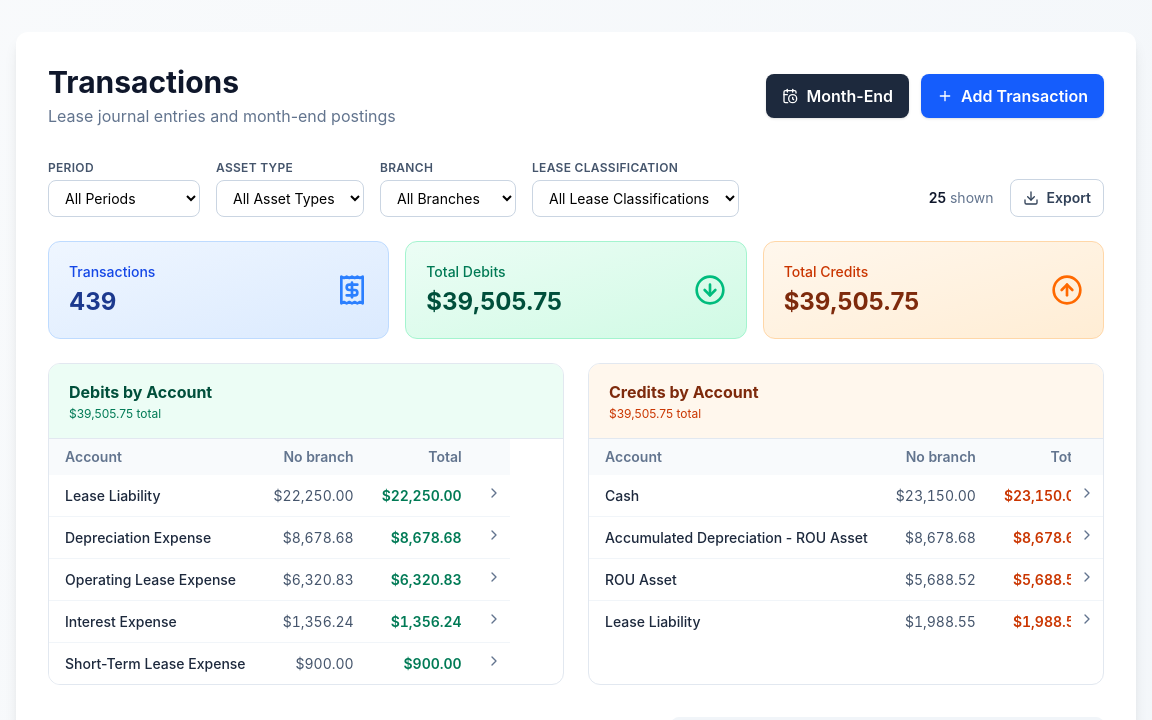
Test: Month-end flow: preview, post, lock and reopen › after posting a new month, the month before it is refused and the new month can be reopened (unlocking the period)
Later steps or results of the test are not shown.
Click the button "Month-End". click: (838, 96)
box: [766,74,909,118]
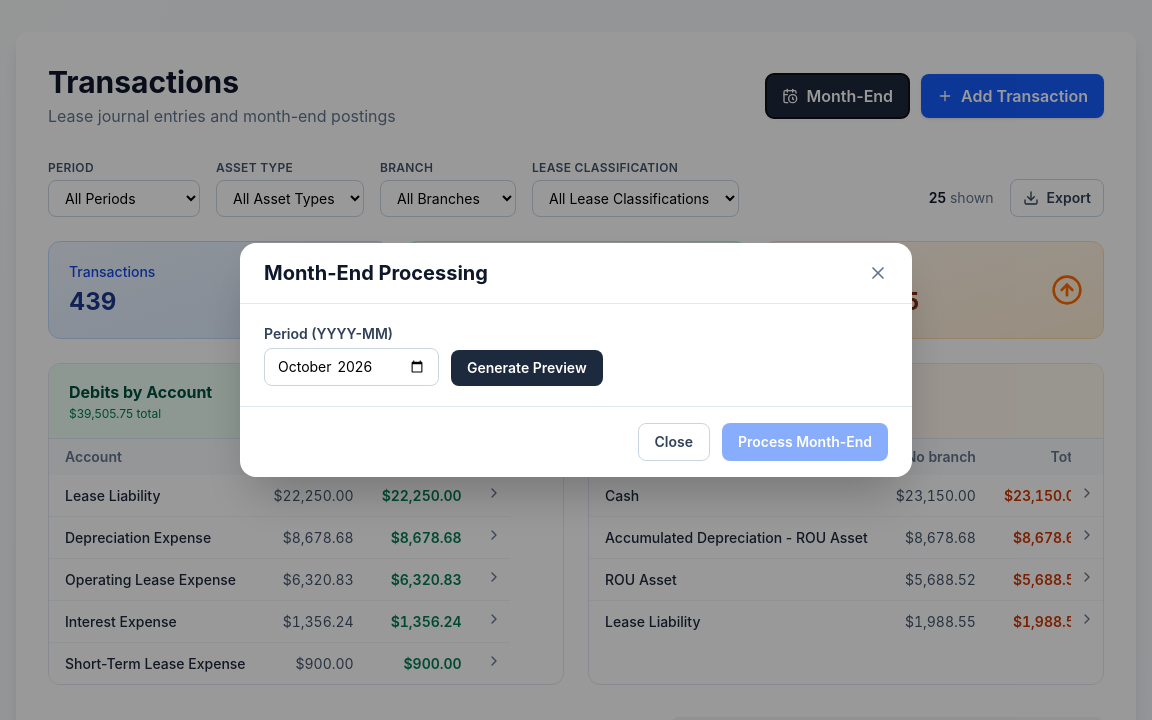
Check: the heading "Month-End Processing" is shown, box [264,259,488,287]
Check: the field is shown
Replace the text in the field with "2026-07". click: (352, 367)
box: [264,348,439,386]
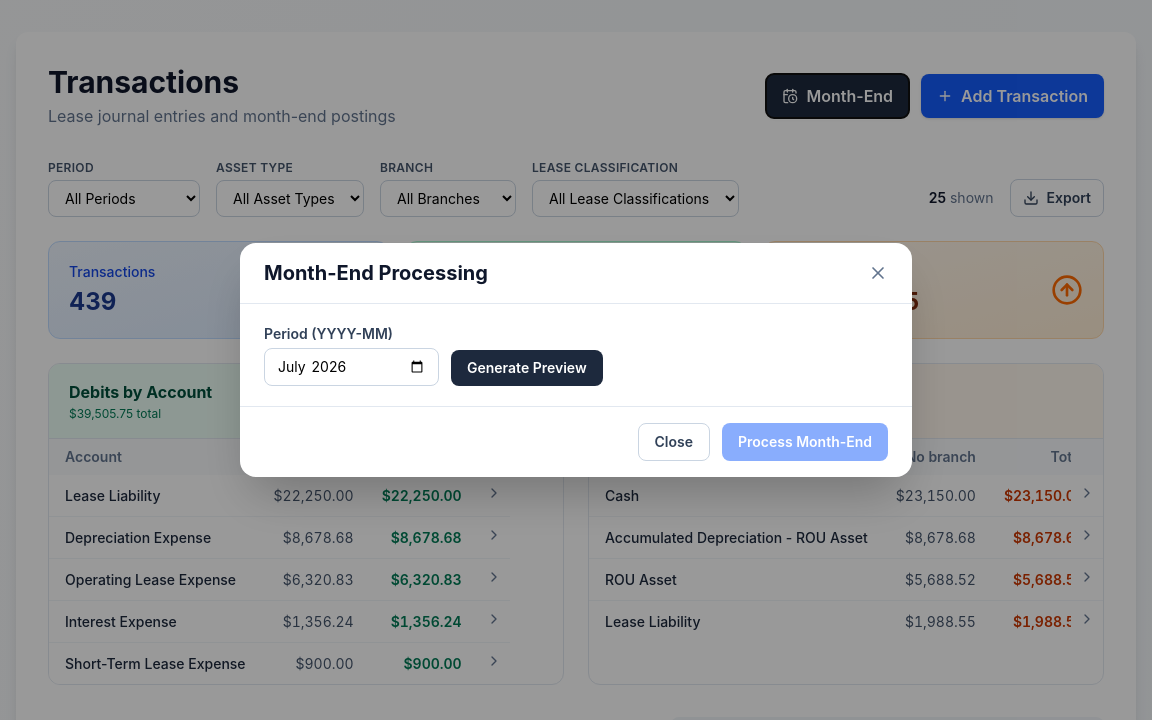
Click the button "Generate Preview". click: (527, 368)
box: [451,350,603,386]
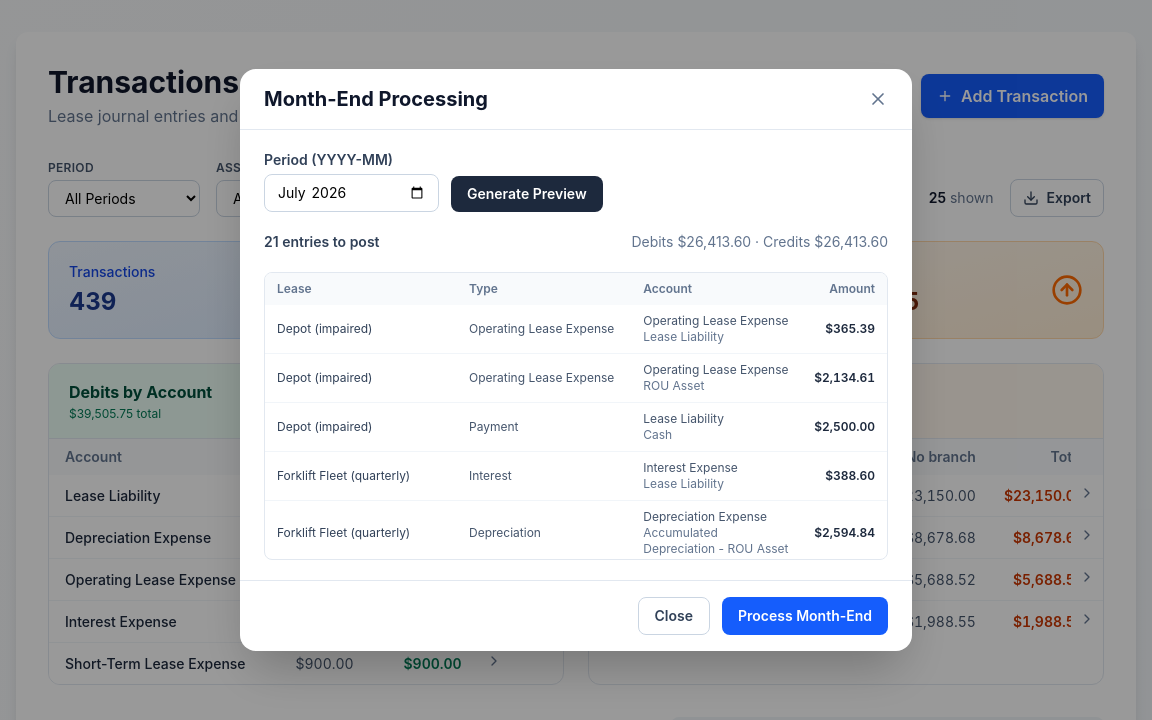
Check: the text "21 entries to post" is shown, box [264,232,380,252]
